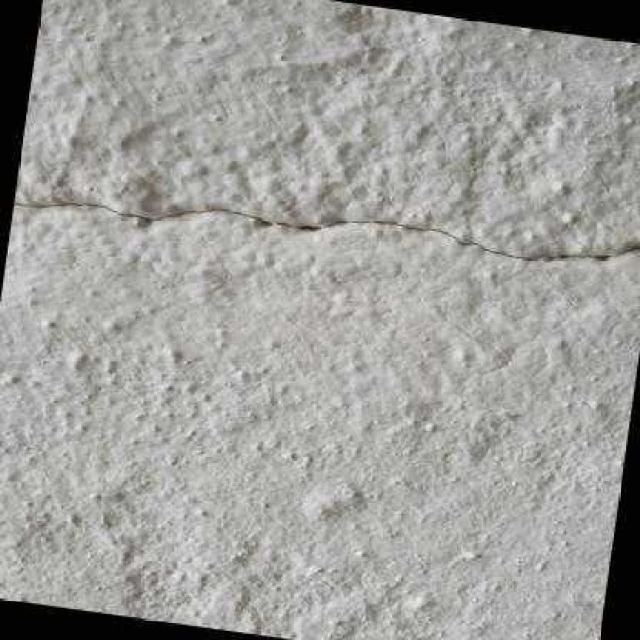D00: (13, 201, 640, 259), (13, 200, 640, 258)
